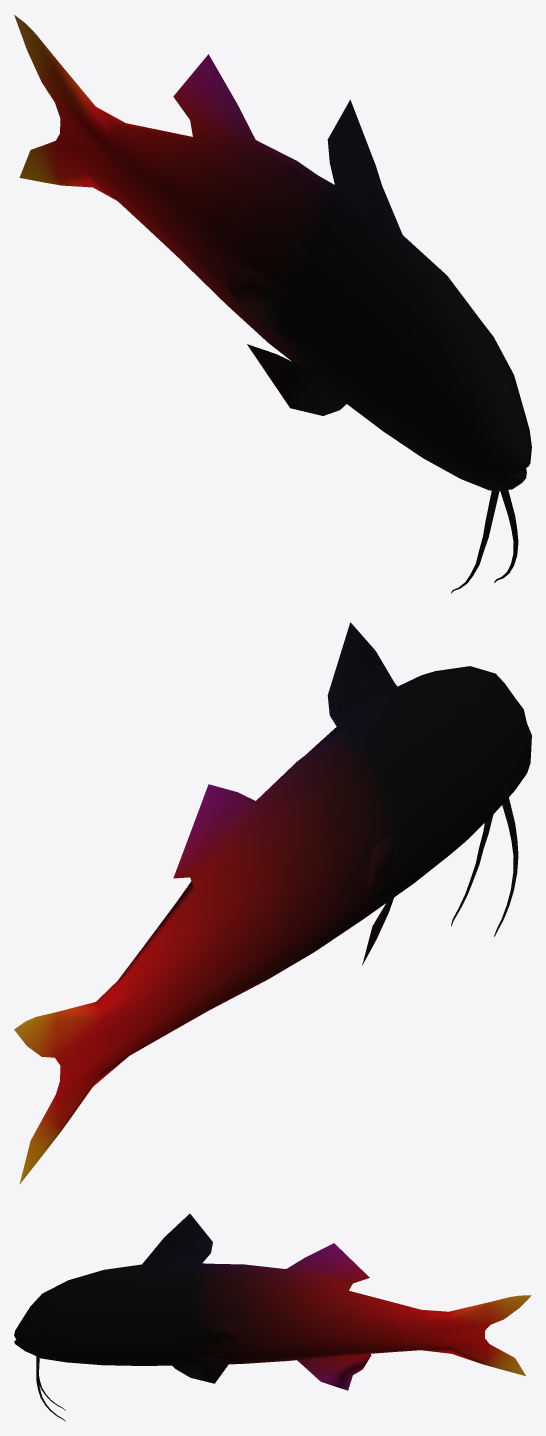
3 renders of one model, top to bottom at view 1: azimuth 30°, elevation 25°; view 2: azimuth 150°, elevation 25°; view 3: azimuth 270°, elevation 25°, orthographic. The views are drawn at different scales.
Parts seen in each view (by area): view 1: red mullet_final; view 2: red mullet_final; view 3: red mullet_final.
Boxes of the visible parts, box(x1,y1,x2,y2) form: red mullet_final: box(14, 15, 531, 593); red mullet_final: box(14, 622, 531, 1184); red mullet_final: box(14, 1214, 531, 1421).
Bounding box in the file's own units: 0.0297 × 0.0814 × 0.1883.
